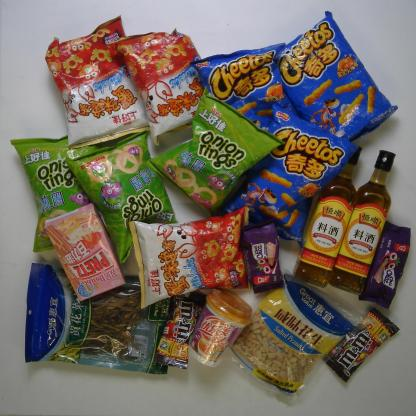Chocolate: (320, 307, 402, 384), (150, 292, 208, 372)
Dessert: (42, 201, 127, 303), (357, 218, 413, 310), (239, 217, 286, 295)
Dried Food: (22, 262, 175, 378)
Dried Fruit: (226, 265, 370, 406)
Instant Drink: (187, 286, 255, 370)
Puffed Food: (217, 100, 361, 251), (144, 84, 288, 213), (271, 9, 401, 143), (63, 128, 180, 265), (43, 11, 150, 151), (126, 204, 254, 311), (9, 135, 113, 254), (113, 26, 208, 149), (187, 40, 302, 135)
Seasoner: (291, 143, 365, 289), (328, 148, 398, 297)
